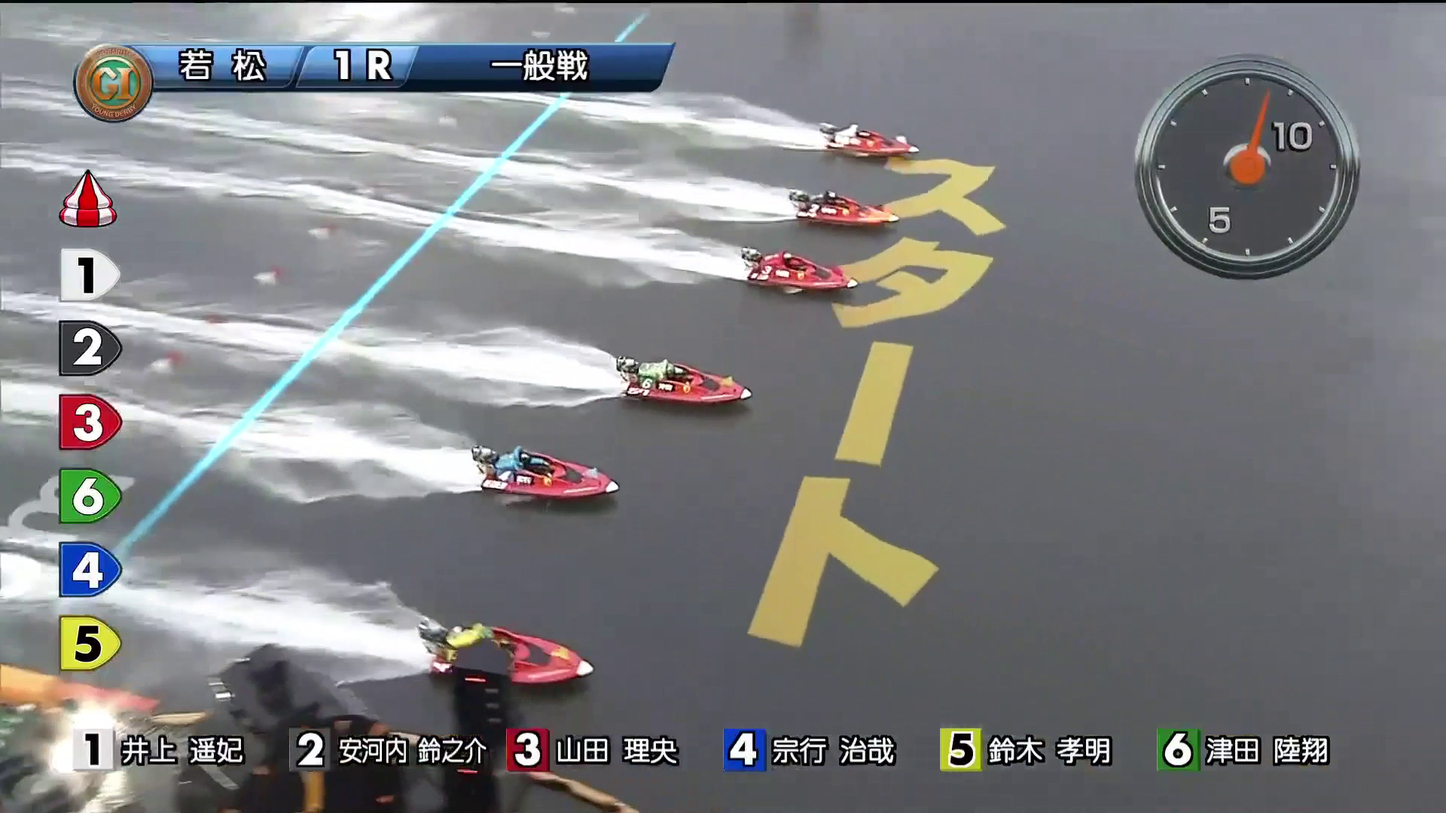１号艇: (796, 134, 878, 180)
２号艇: (821, 200, 889, 238)
３号艇: (772, 254, 839, 295)
４号艇: (646, 360, 718, 403)
５号艇: (507, 458, 585, 499)
６号艇: (463, 638, 544, 686)
